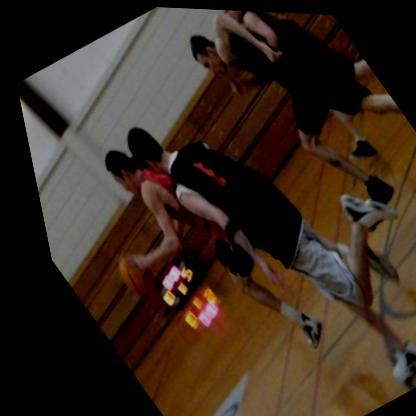basketball: (95, 242, 159, 306)
